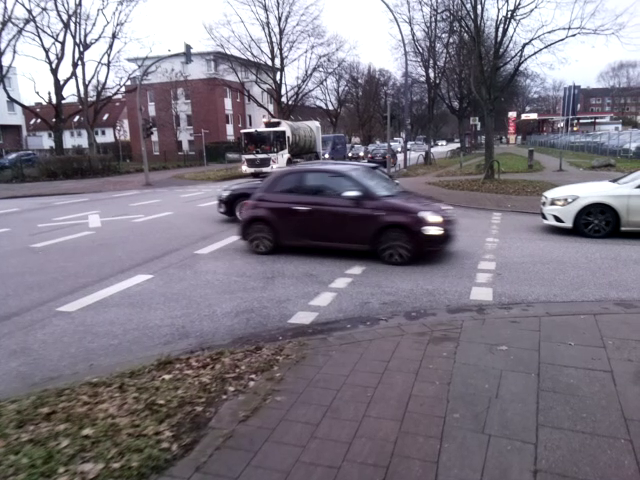car: (237, 163, 461, 272)
